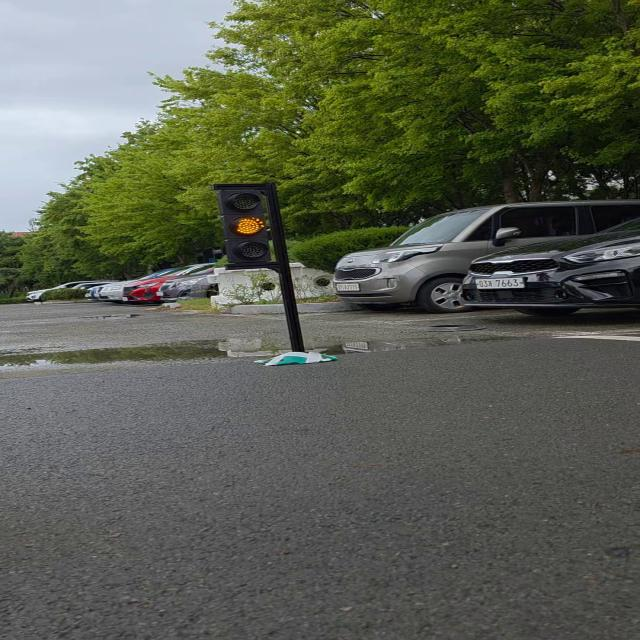yellow: (222, 185, 277, 273)
